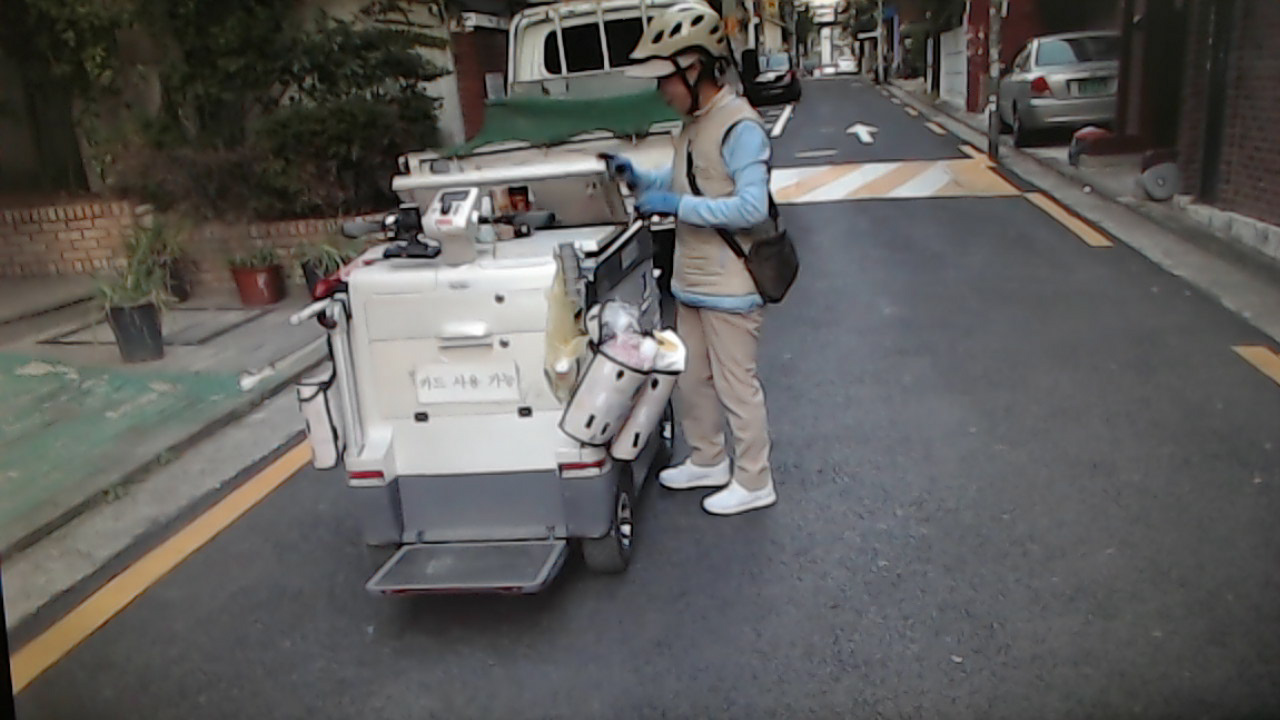Yakurut: (565, 4, 824, 525)
